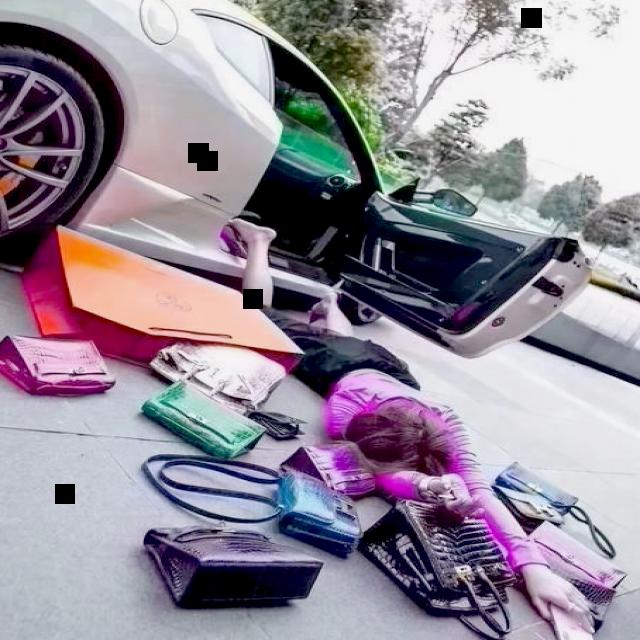Fall-Detected: (212, 232, 604, 630)
